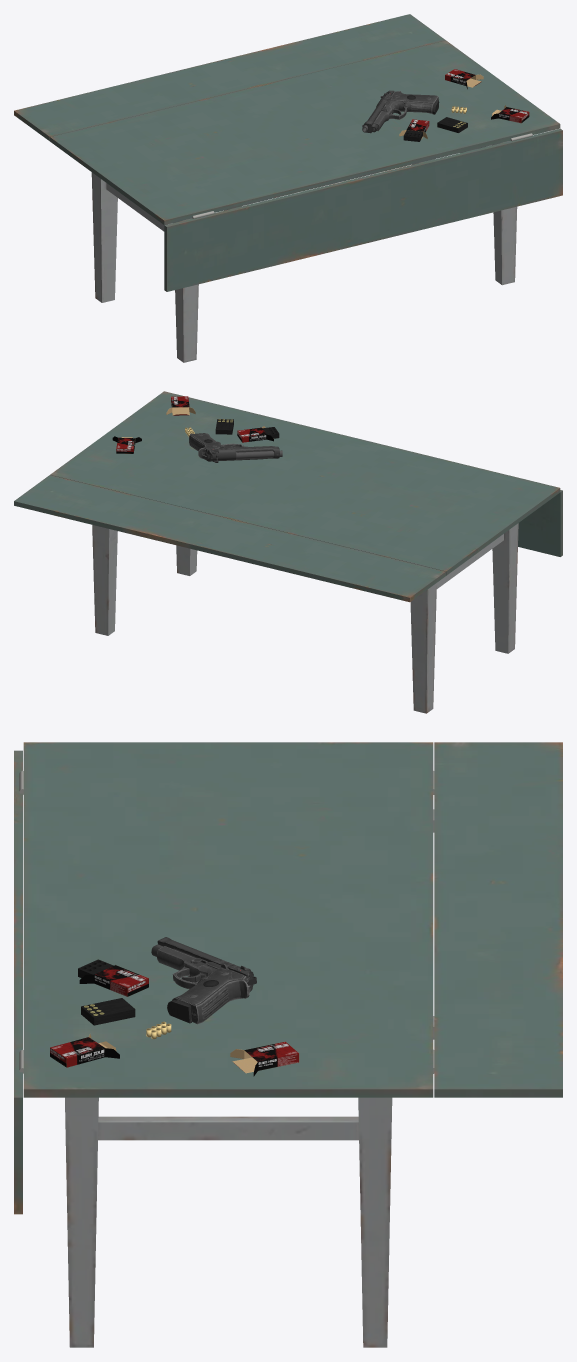
Rendered from table-transformed.glb.
3 renders of one model, top to bottom at view 1: azimuth 30°, elevation 25°; view 2: azimuth 150°, elevation 25°; view 3: azimuth 270°, elevation 25°, orthographic. The views are drawn at different scales.
Parts seen in each view (by area): view 1: Object_8.002, defaultMaterial, Object_4.005, Object_6.002; view 2: Object_8.002, defaultMaterial.001, Object_4.005, defaultMaterial, Object_6.002; view 3: Object_8.002, defaultMaterial, Object_4.005, Object_6.002, Object_4.004, defaultMaterial.001.
Boxes of the visible parts, <box> form: Object_8.002: <box>14,14,562,362</box>; defaultMaterial: <box>373,91,439,131</box>; Object_4.005: <box>445,69,529,123</box>; Object_6.002: <box>403,117,467,141</box>; Object_8.002: <box>14,391,562,713</box>; defaultMaterial.001: <box>204,446,282,462</box>; Object_4.005: <box>112,396,195,453</box>; defaultMaterial: <box>189,433,247,459</box>; Object_6.002: <box>215,419,279,438</box>; Object_8.002: <box>14,742,562,1347</box>; defaultMaterial: <box>157,946,250,1024</box>; Object_4.005: <box>50,1034,299,1076</box>; Object_6.002: <box>78,959,135,1025</box>; Object_4.004: <box>79,964,148,996</box>; defaultMaterial.001: <box>151,937,256,992</box>.
Bounding box in the file's own units: 2 × 0.8397 × 1.34.
Materials: 7 (7 with a texture image).
